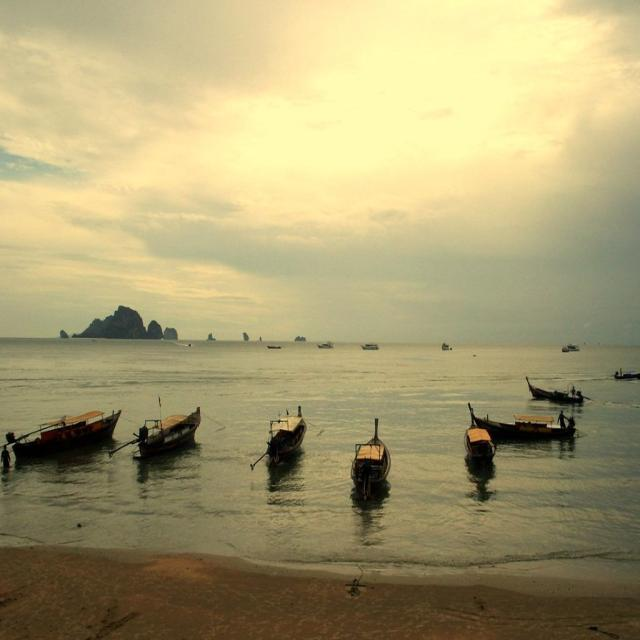Boat: (9, 403, 126, 459), (466, 402, 576, 440), (138, 398, 200, 460), (349, 423, 391, 499), (266, 411, 306, 460), (464, 414, 495, 467), (528, 379, 582, 407), (616, 372, 640, 382), (442, 342, 450, 352), (364, 344, 374, 350), (322, 342, 331, 347), (564, 348, 576, 350), (268, 346, 280, 347)
